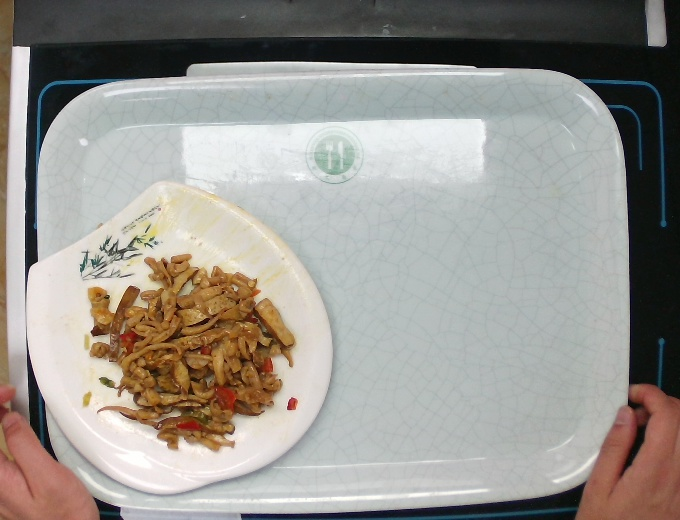JYsf-Mian_Pan: (24, 178, 336, 496)
